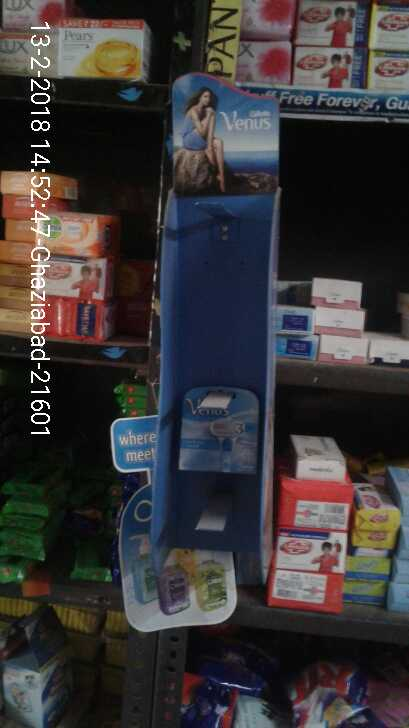venus: (178, 377, 271, 478)
